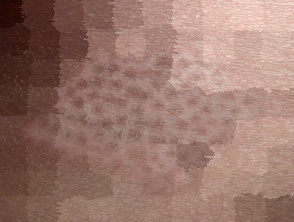vitiligo: (0, 5, 275, 222)
